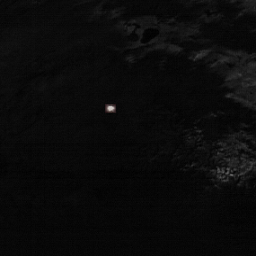Target: (105, 103, 116, 113)
